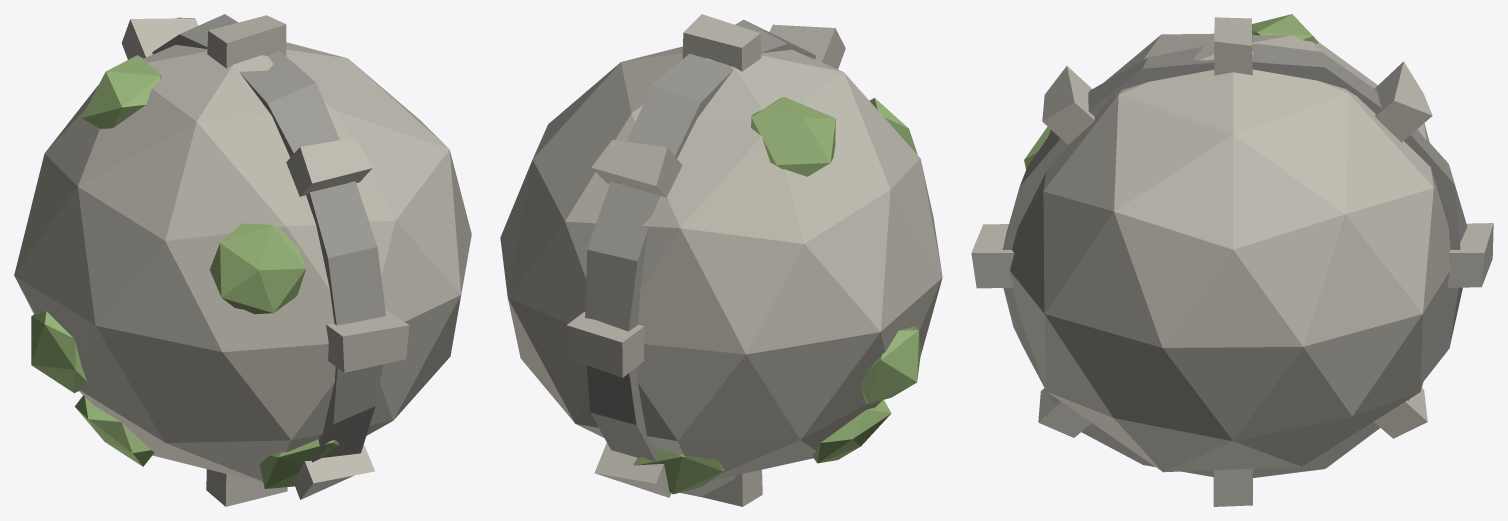
Rendered from Boulder.fbx.
The picture shows the model from 3 angles, left to right: view 1: azimuth 30°, elevation 25°; view 2: azimuth 150°, elevation 25°; view 3: azimuth 270°, elevation 25°; orthographic projection.
Parts seen in each view (by area): view 1: Boulder; view 2: Boulder; view 3: Boulder.
Boxes of the visible parts, x1,y1,x2,y2 form: Boulder: [14, 14, 471, 506]; Boulder: [500, 14, 942, 506]; Boulder: [971, 14, 1493, 506].
Size of the model in its own units: 5.93 by 6.7 by 6.82.
